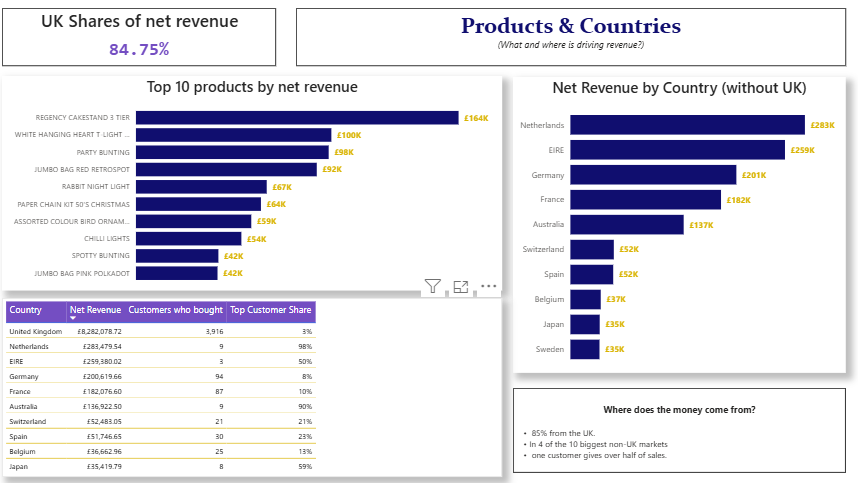

Layout of this report page (visuals, bound fields, positions):
{"tool":"powerbi","page":{"name":"Products & Countries","canvas":[1280,720],"ordinal":2},"visuals":[{"type":"card","title":"UK Shares of net revenue","fields":{"Values":["retail_clean.UK Share"]},"box":[11.7,22,401,84.9],"z":0},{"type":"barChart","title":"Top 10 products by net revenue","fields":{"Y":["retail_clean.Net Revenue"],"Category":["products.ProductName"]},"box":[12,122,732,314],"z":1000},{"type":"clusteredBarChart","title":"Net Revenue by Country (without UK)","fields":{"Category":["retail_clean.Country"],"Y":["retail_clean.Net Revenue"]},"box":[759.5,122.9,487.3,433.2],"z":2000},{"type":"textbox","box":[442,22,804.9,84.9],"z":3000},{"type":"textbox","box":[759.5,578,487.3,124.4],"z":4000},{"type":"tableEx","fields":{"Values":["retail_clean.Country","retail_clean.Net Revenue","retail_clean.Customers who bought","retail_clean.Top Customer Share"]},"box":[11.7,446.3,731.7,273.7],"z":5000}]}

Visuals, with their boxes in screenshot pixels (x1, y1, x2, y2), scaled from the page's 1280x720 canvas onto the 858x483 screenshot:
"UK Shares of net revenue" card: box=[8, 15, 277, 72]
"Top 10 products by net revenue" barChart: box=[8, 82, 499, 292]
"Net Revenue by Country (without UK)" clusteredBarChart: box=[509, 82, 836, 373]
textbox: box=[296, 15, 836, 72]
textbox: box=[509, 388, 836, 471]
tableEx - retail_clean.Country x retail_clean.Net Revenue: box=[8, 299, 498, 482]
